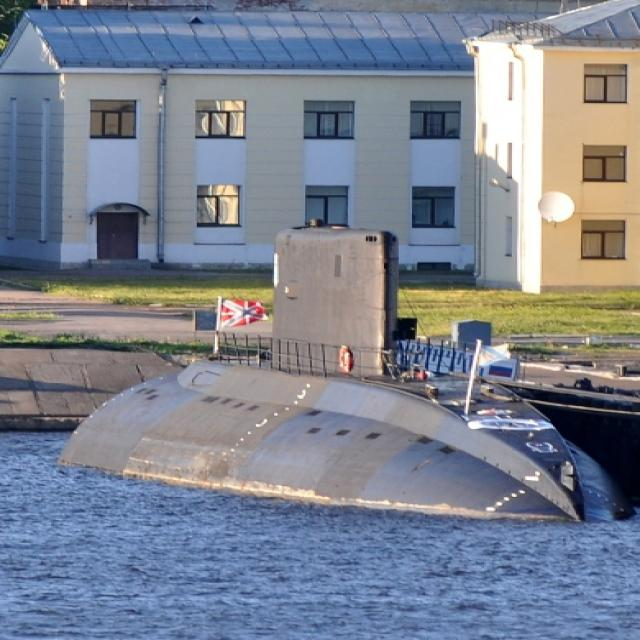submarine: (62, 232, 638, 526)
